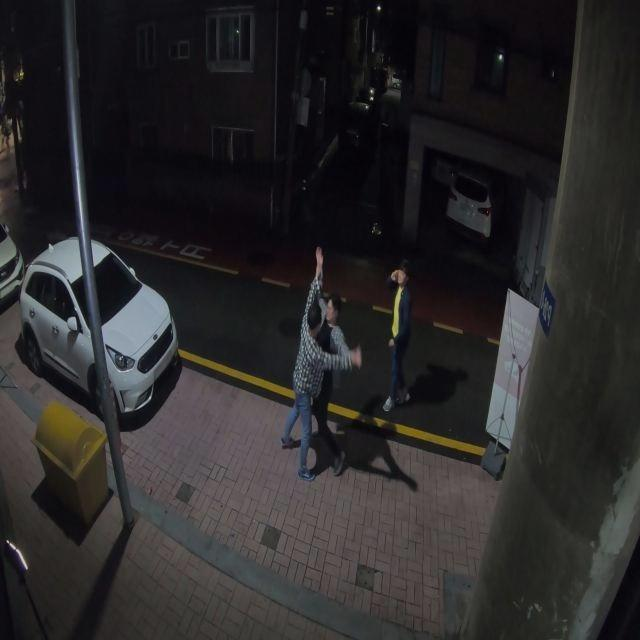fight: (279, 245, 364, 480)
non-fight: (379, 253, 417, 414)
